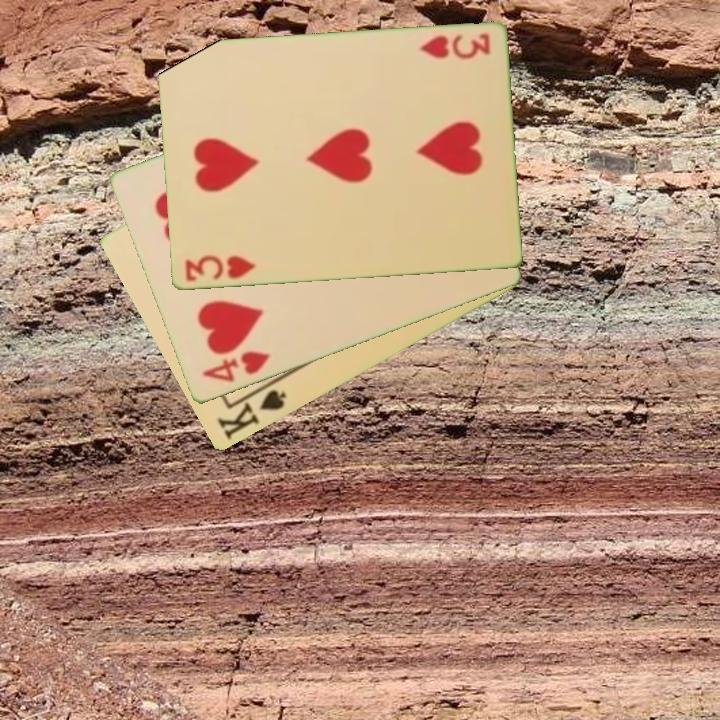3h: (181, 252, 258, 285), (415, 30, 493, 62)
4h: (198, 348, 273, 386)
Ks: (213, 376, 289, 443)
